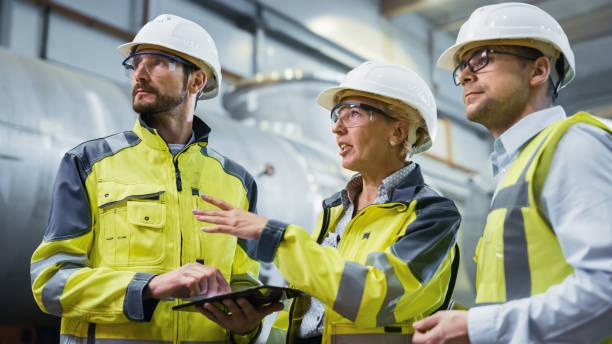capacete: (439, 0, 580, 81), (319, 59, 441, 142), (116, 18, 228, 92)
oculos de protecao: (323, 102, 422, 132), (120, 52, 193, 79)
pessoa: (30, 8, 258, 344), (459, 0, 604, 343), (277, 61, 451, 344)
uniforme seguranca: (32, 131, 263, 341), (469, 114, 612, 340), (293, 180, 460, 343)
